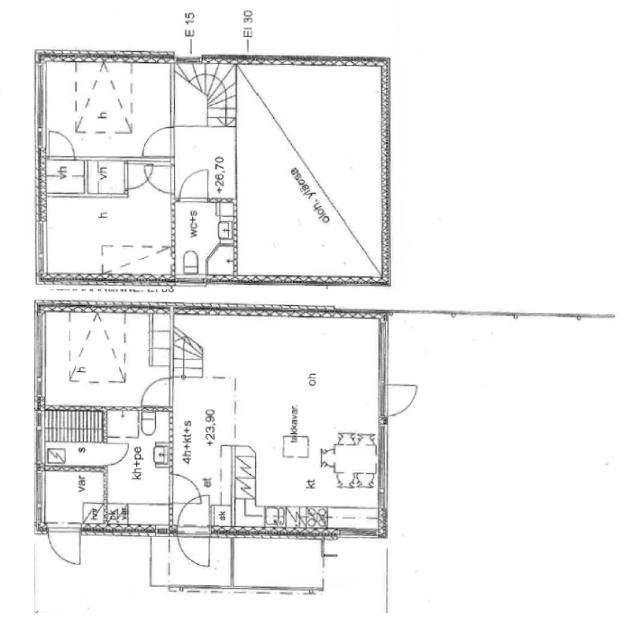door: (130, 124, 175, 194), (46, 524, 84, 569), (176, 527, 212, 570), (382, 381, 421, 417), (138, 123, 175, 160), (139, 160, 176, 195), (176, 496, 211, 533), (177, 166, 211, 204), (138, 374, 174, 408), (167, 472, 203, 504), (123, 160, 158, 192), (46, 128, 78, 162), (102, 438, 132, 468)
window: (31, 60, 51, 138), (31, 312, 49, 397), (374, 421, 393, 500), (374, 317, 394, 382), (33, 216, 49, 269), (333, 528, 378, 543), (174, 276, 210, 290), (283, 584, 315, 596)
zone: (229, 322, 383, 518), (232, 433, 383, 533), (42, 60, 172, 160), (41, 312, 170, 408), (42, 195, 173, 276), (106, 410, 173, 527), (230, 537, 323, 591), (172, 200, 234, 279), (39, 469, 107, 529), (41, 408, 107, 443), (43, 440, 107, 470), (84, 159, 128, 198), (45, 159, 88, 197)
